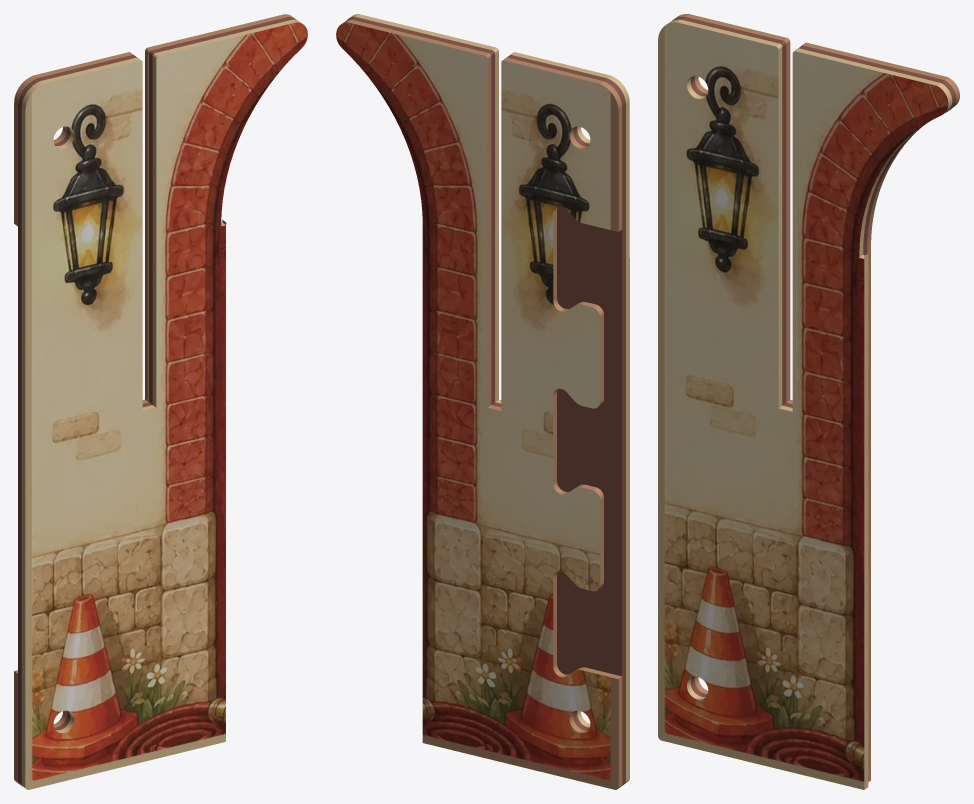
The model's file is door-panel-bottom-left-subpanel.glb.
3 views of the same model, side by side, from view 1: azimuth 30°, elevation 25°; view 2: azimuth 150°, elevation 25°; view 3: azimuth 330°, elevation 25° (orthographic). The views are drawn at different scales.
Parts seen in each view (by area): view 1: door-panel-bottom-left-subpanel; view 2: door-panel-bottom-left-subpanel; view 3: door-panel-bottom-left-subpanel.
Boxes of the visible parts, left/top/right/bottom form: door-panel-bottom-left-subpanel: left=14, top=14, right=307, bottom=789; door-panel-bottom-left-subpanel: left=336, top=14, right=629, bottom=789; door-panel-bottom-left-subpanel: left=658, top=14, right=959, bottom=789.
Size of the model in its own units: 389 by 925 by 27.
Materials: 5 (2 with a texture image).
